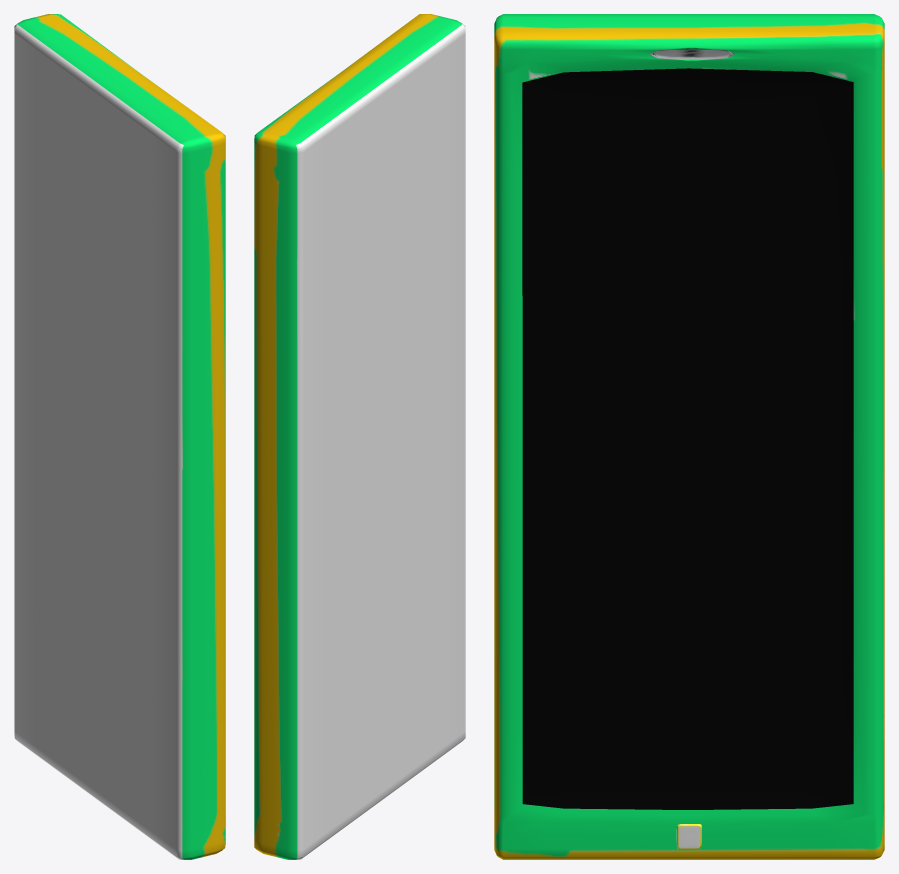
Rendered from smartphone_v2.0_tth.fbx.
3 views of the same model, side by side, from view 1: azimuth 30°, elevation 25°; view 2: azimuth 150°, elevation 25°; view 3: azimuth 270°, elevation 25° (orthographic). The views are drawn at different scales.
Visible parts, largest first — view 1: smartphone_geo1; view 2: smartphone_geo1; view 3: smartphone_geo1.
Boxes of the visible parts, left/top/right/bottom form: smartphone_geo1: left=14, top=14, right=225, bottom=859; smartphone_geo1: left=254, top=14, right=465, bottom=859; smartphone_geo1: left=494, top=14, right=884, bottom=859.
Size of the model in its own units: 0.5201 by 7 by 3.
